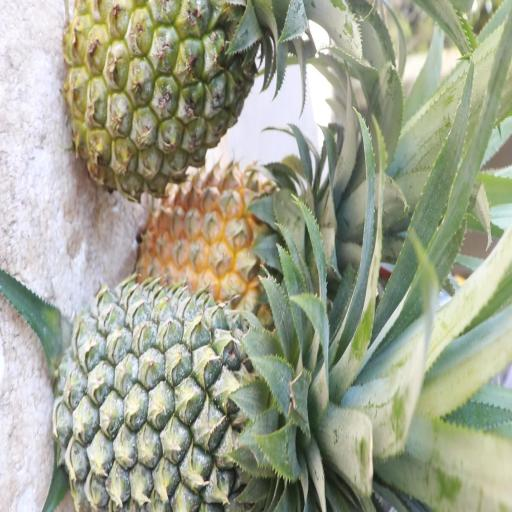------------------------------: (64, 0, 276, 193)
Pineapple - v8 v1: (144, 162, 334, 316)
